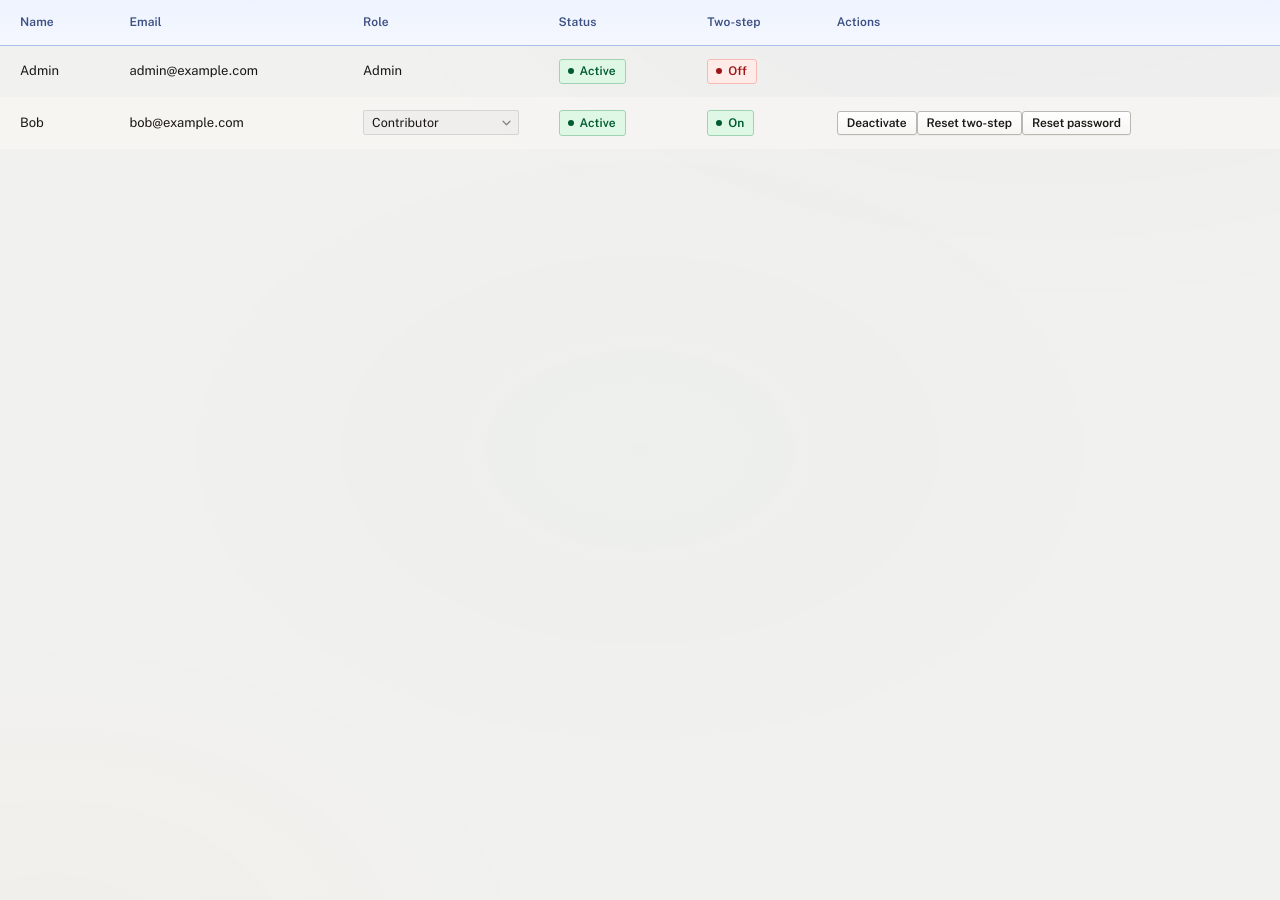
it: UsersList › two-step sign-in › does nothing if the confirmation is cancelled
Click the button with aria-label "Reset two-step sign-in for Bob": (969, 123) [916, 111, 1022, 135]
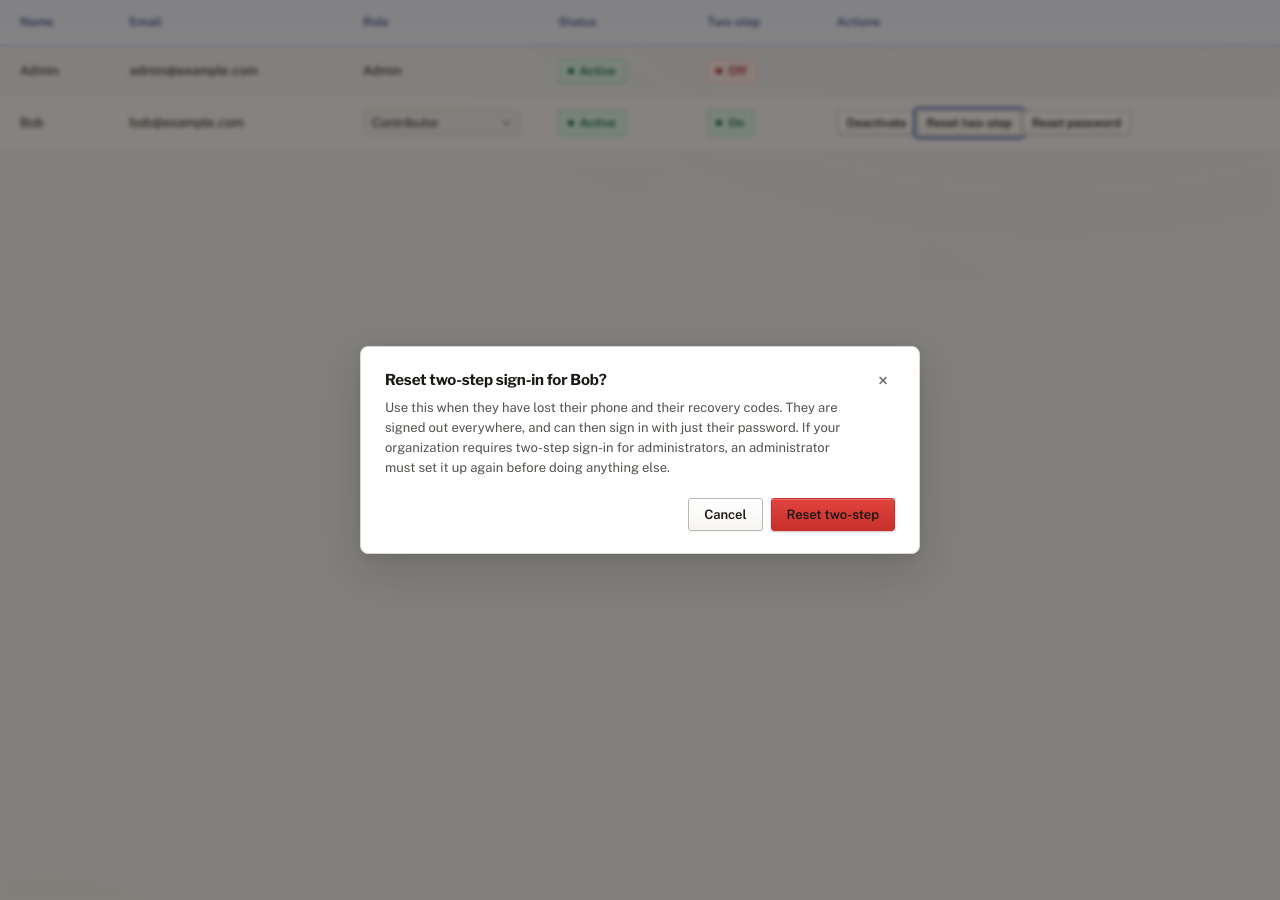
Click the button "Cancel": (725, 515) [688, 498, 762, 531]
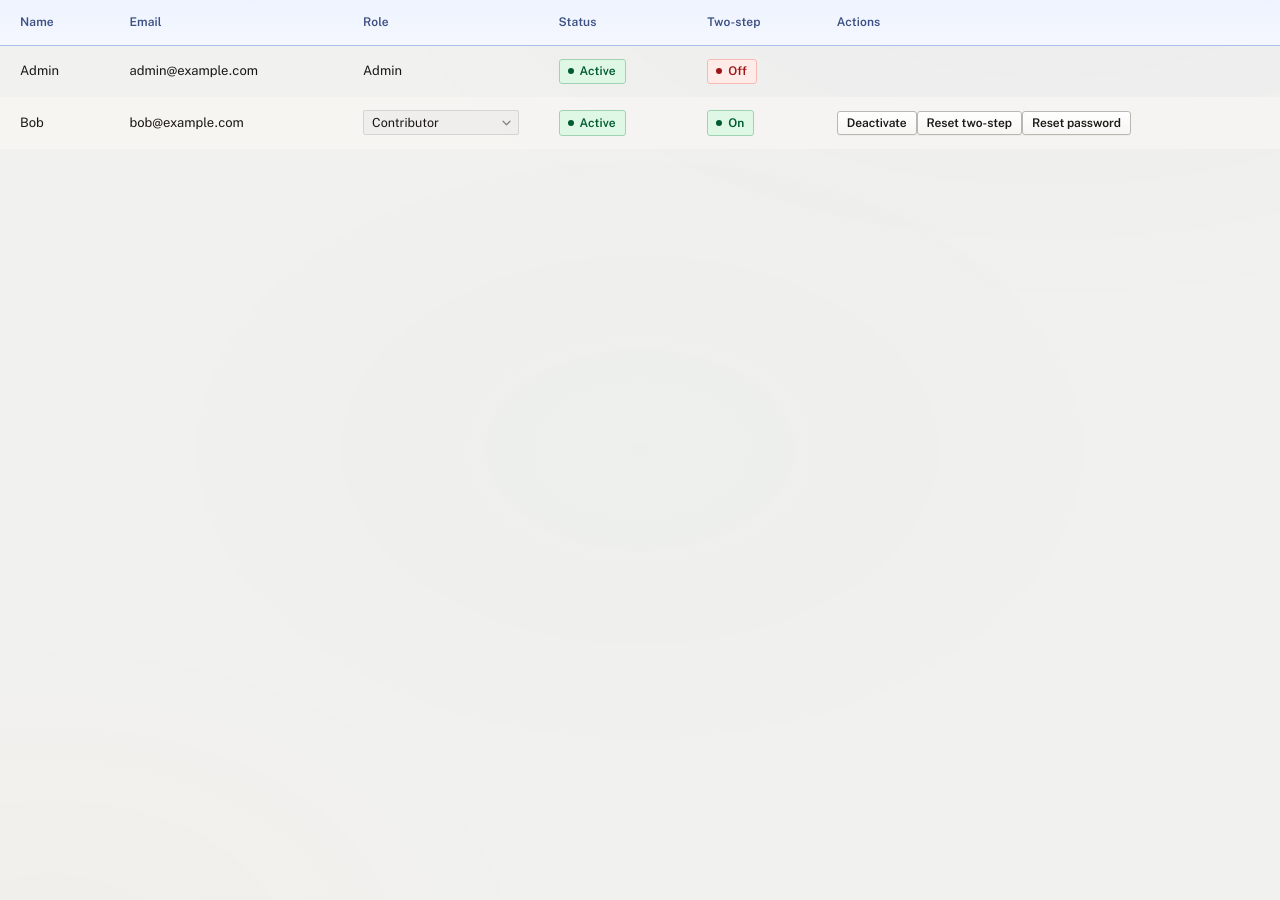
Expected: the dialog is gone
